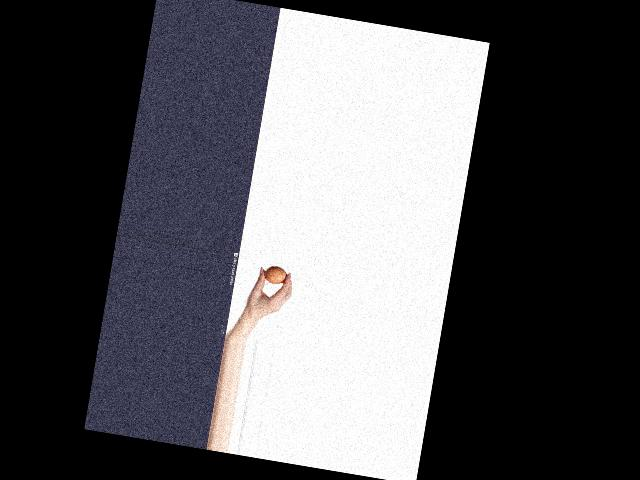egg: (262, 264, 287, 286)
